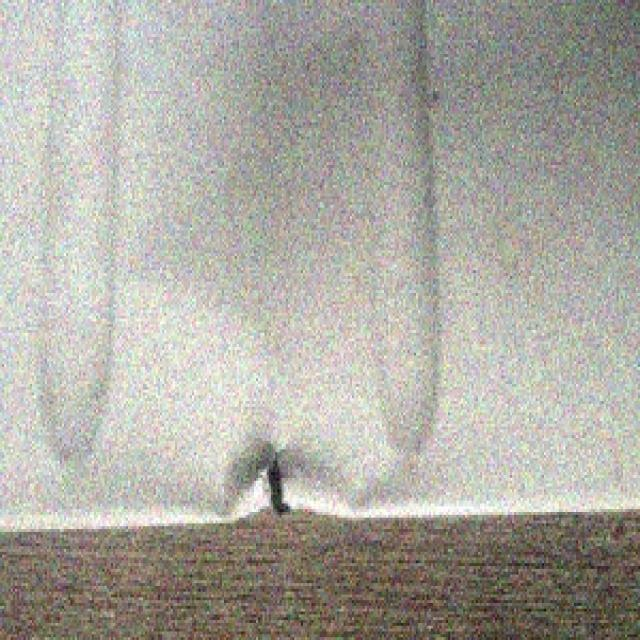crack: (255, 445, 304, 514)
